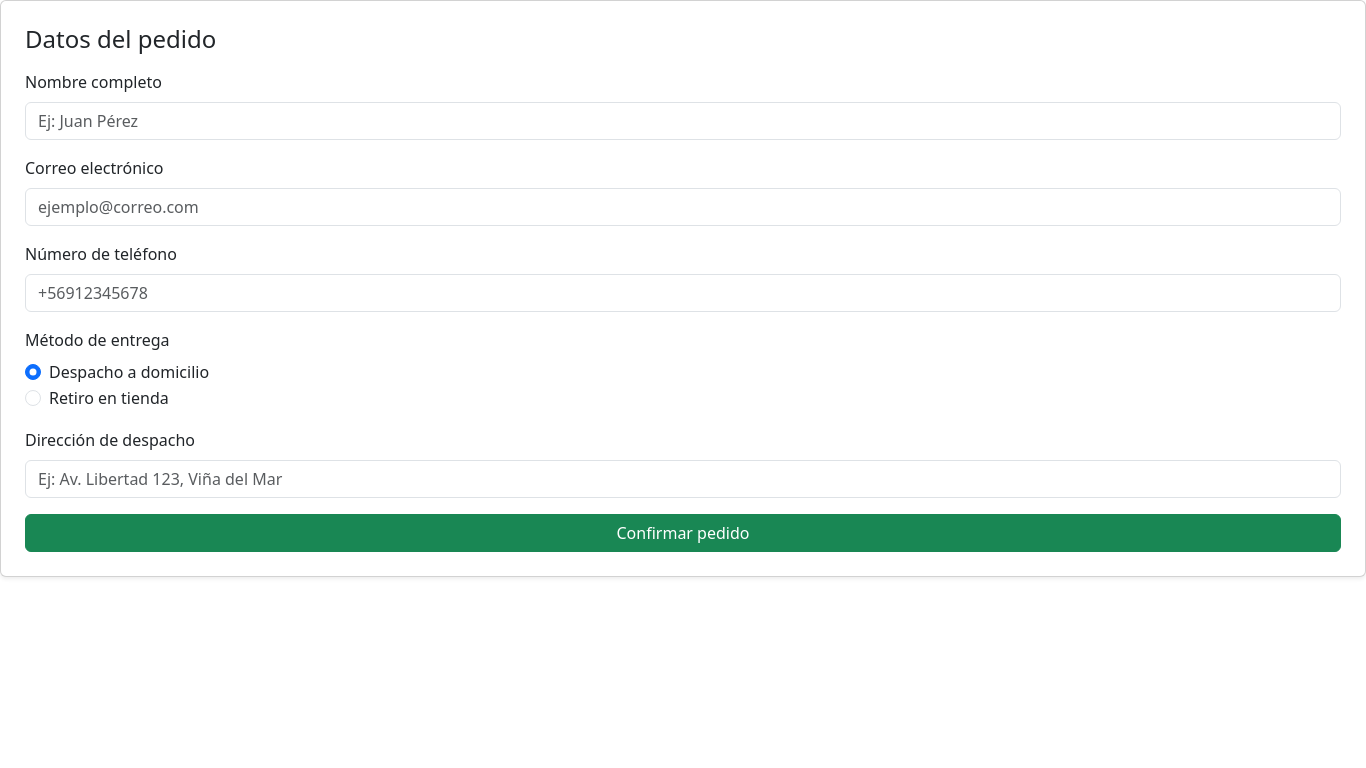
OrderForm › muestra los errores y no envía si el formulario está vacío
Click the button "Confirmar pedido". click: [683, 533]
box: [25,514,1341,552]
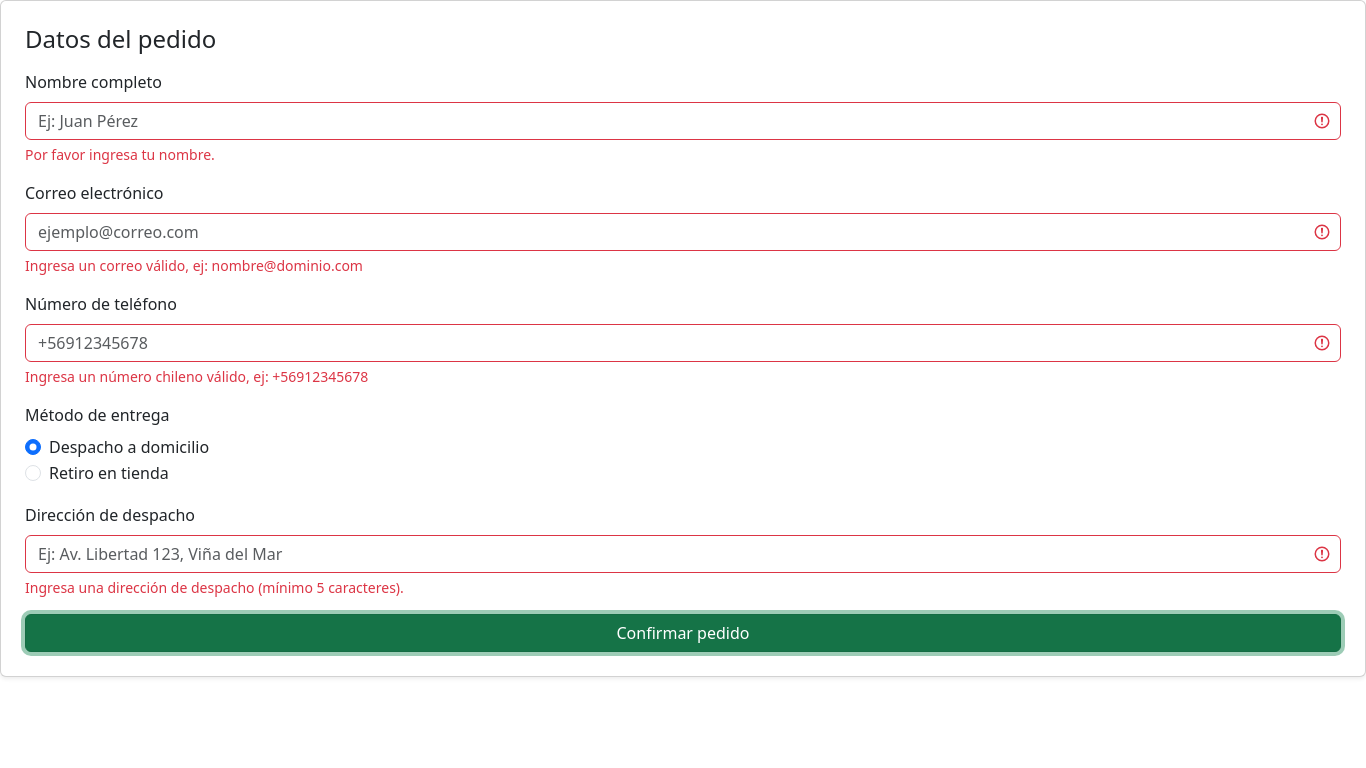
Expected: the text "Por favor ingresa tu nombre." is shown, [25,145,215,164]
Expected: the text "Ingresa un correo válido, ej: nombre@dominio.com" is shown, [25,256,363,275]
Expected: the text "Ingresa un número chileno válido, ej: +56912345678" is shown, [25,367,368,386]
